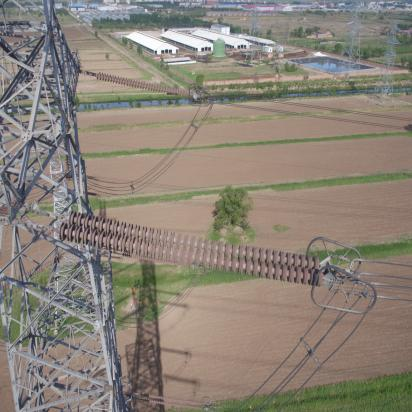insulator: (45, 208, 329, 288), (91, 71, 197, 100)
